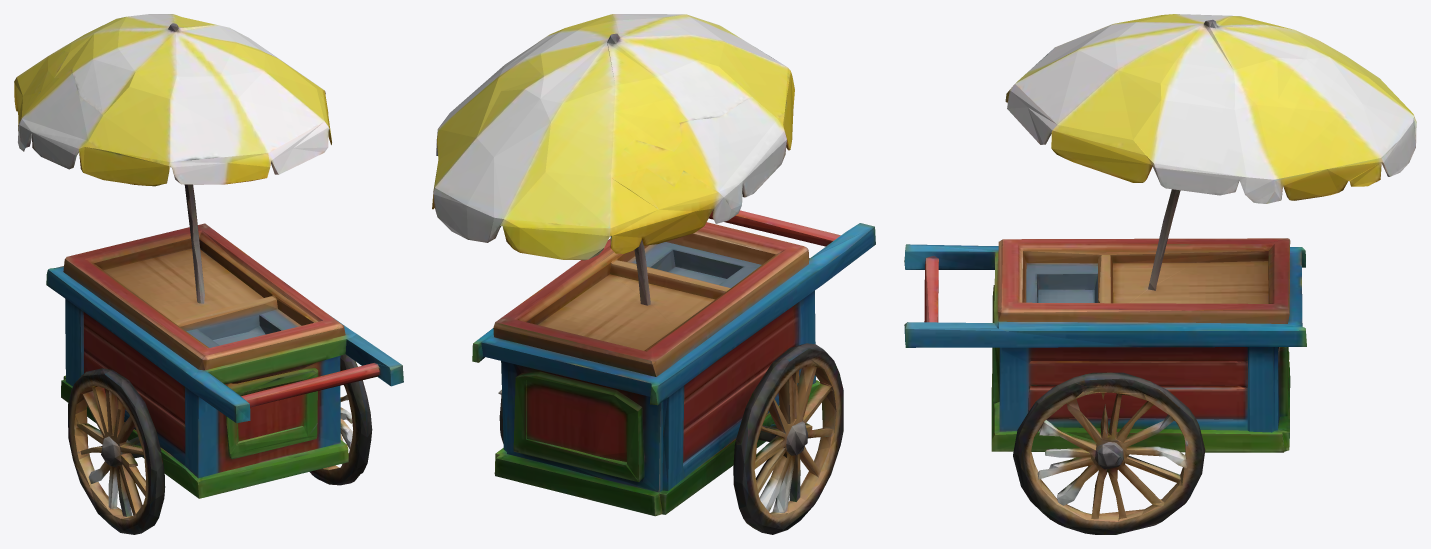
File: foodcart.glb
3 views of the same model, side by side, from view 1: azimuth 30°, elevation 25°; view 2: azimuth 150°, elevation 25°; view 3: azimuth 270°, elevation 25° (orthographic). The views are drawn at different scales.
Visible parts, largest first — view 1: geometry_0; view 2: geometry_0; view 3: geometry_0.
Boxes of the visible parts, box(x1,y1,x2,y2) form: geometry_0: box(14, 14, 403, 534); geometry_0: box(432, 14, 875, 534); geometry_0: box(904, 14, 1416, 534).
Size of the model in its own units: 0.6163 by 0.9974 by 0.9992.
Materials: 1 (1 with a texture image).
